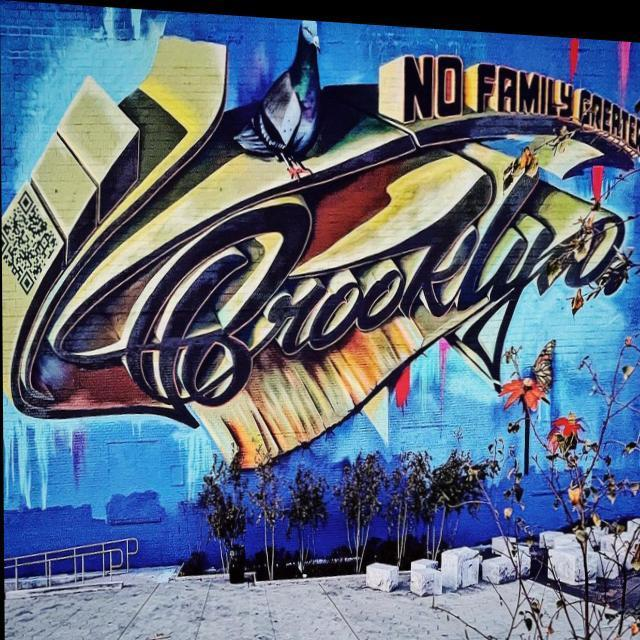-: (0, 0, 638, 498)
